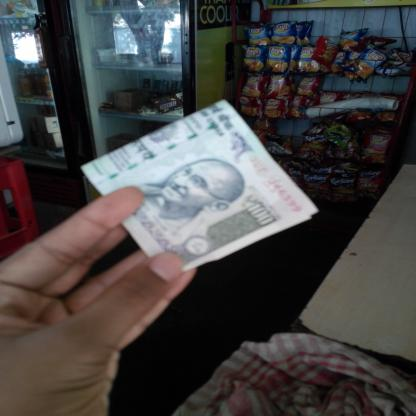Old100Front: (80, 99, 321, 272)
